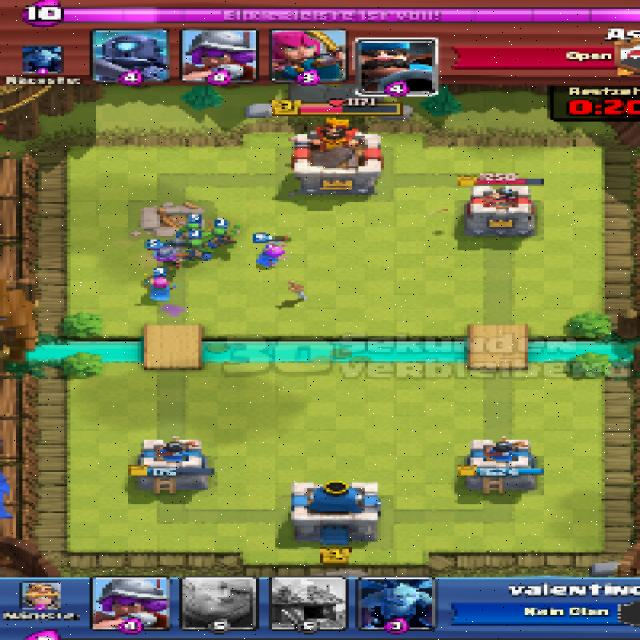Player-Archer: (147, 277, 175, 301), (256, 245, 286, 265)
Player-Musketeer: (151, 246, 197, 268)
Player-SpearGoblin: (207, 224, 238, 244), (184, 238, 213, 258), (177, 223, 201, 242)
